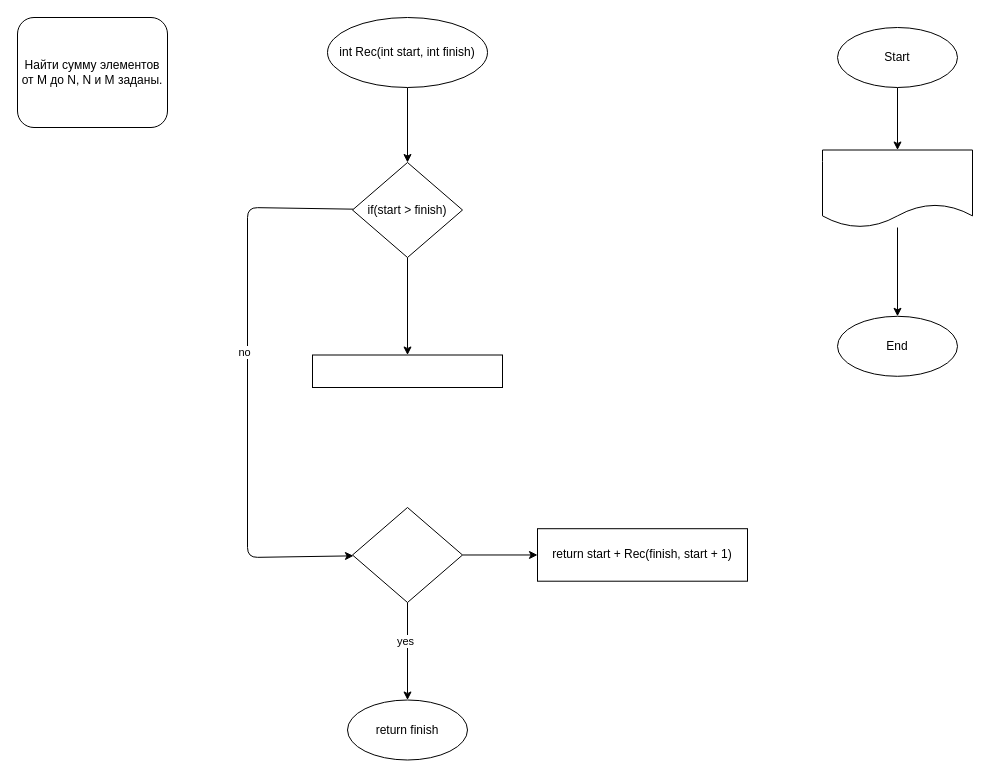
This 990x778 diagram has some shape labels left out. Here are the shapes that lost their labels. From the top down, the centre of each, then its label:
At (x=897, y=188): "Console.Write(Rec(3,6));".
At (x=407, y=371): "return start + Rec(finish, start - 1)".
At (x=407, y=554): "if(finish == start)".
